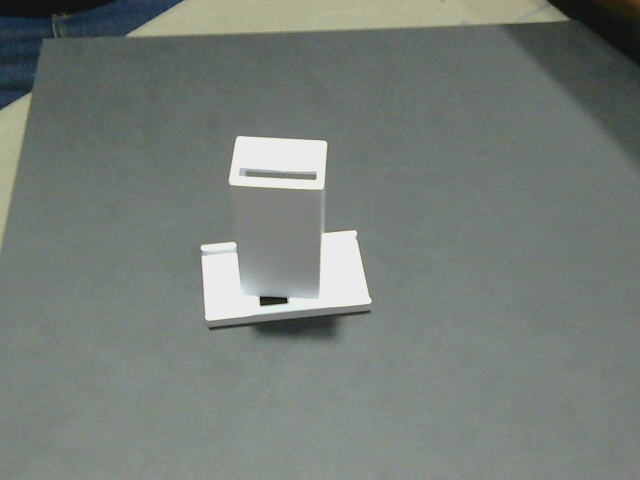enclosure_defective: (201, 231, 371, 320), (229, 136, 327, 190)
